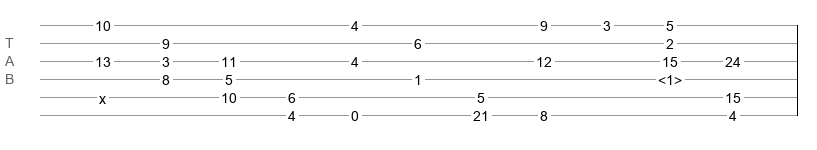0: (351, 108, 359, 118)
1: (414, 72, 422, 82)
10: (95, 18, 111, 28), (221, 90, 237, 100)
11: (221, 54, 237, 64)
12: (536, 54, 552, 64)
13: (95, 54, 111, 64)
15: (662, 54, 678, 64), (725, 90, 741, 100)
2: (666, 36, 674, 46)
21: (473, 108, 489, 118)
24: (725, 54, 741, 64)
3: (162, 54, 170, 64), (603, 18, 611, 28)
4: (288, 108, 296, 118), (351, 54, 359, 64), (351, 18, 359, 28), (729, 108, 737, 118)
5: (225, 72, 233, 82), (477, 90, 485, 100), (666, 18, 674, 28)
6: (288, 90, 296, 100), (414, 36, 422, 46)
8: (162, 72, 170, 82), (540, 108, 548, 118)
9: (162, 36, 170, 46), (540, 18, 548, 28)
harmonic: (658, 72, 682, 82)
x: (99, 91, 106, 99)
